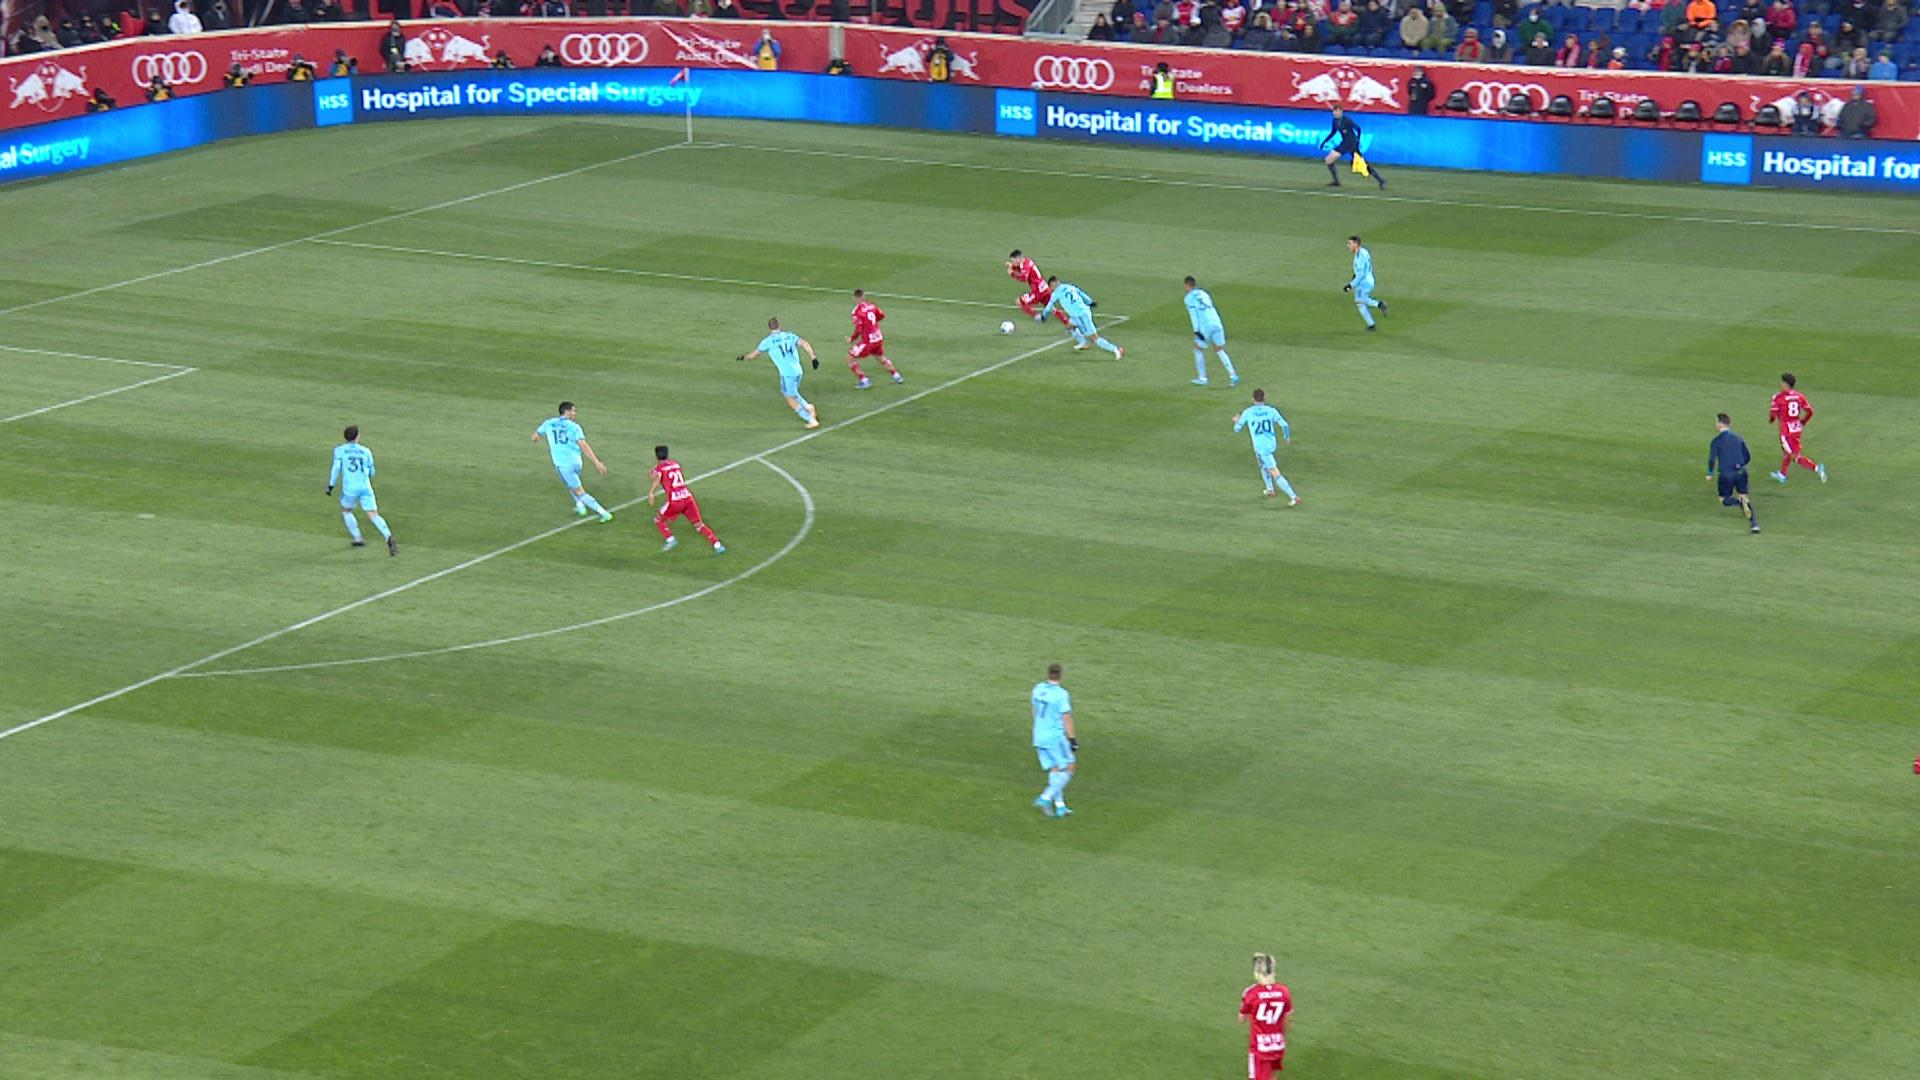football: (1000, 319, 1015, 336)
